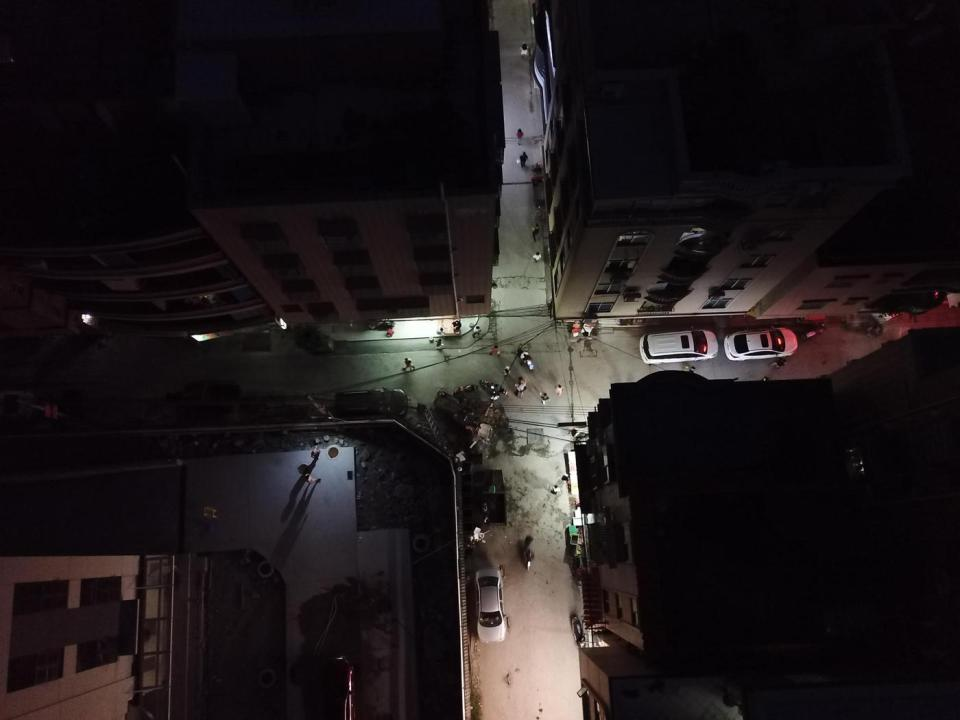car: (640, 325, 718, 364), (724, 324, 798, 357), (475, 568, 507, 643)
van: (333, 386, 409, 418)
